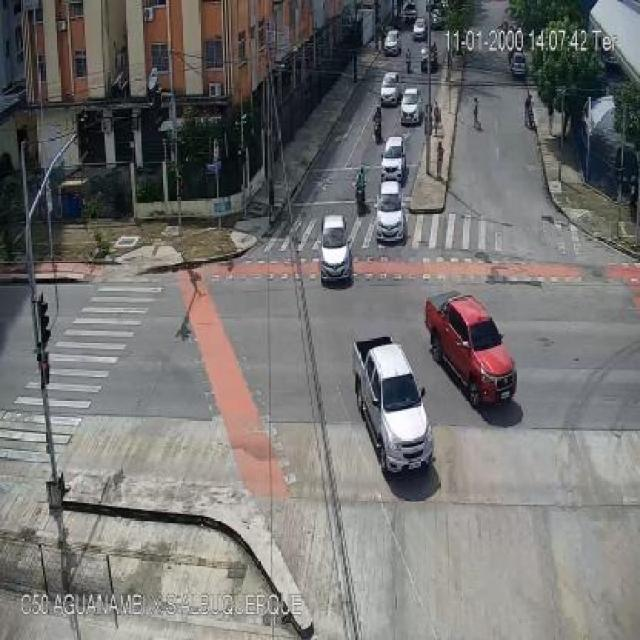Car: (316, 216, 354, 282), (374, 180, 408, 243), (379, 137, 406, 185), (400, 87, 422, 125), (380, 72, 401, 106), (510, 51, 527, 78), (384, 30, 401, 56), (421, 46, 438, 72), (412, 18, 427, 42)
Cycle: (353, 180, 367, 210), (372, 119, 383, 142)
Truck: (352, 335, 437, 477), (424, 290, 518, 407)
